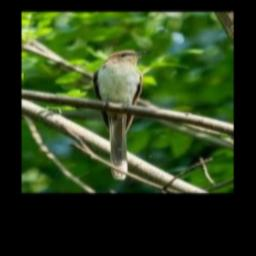Cuckoo: (93, 50, 153, 178)
